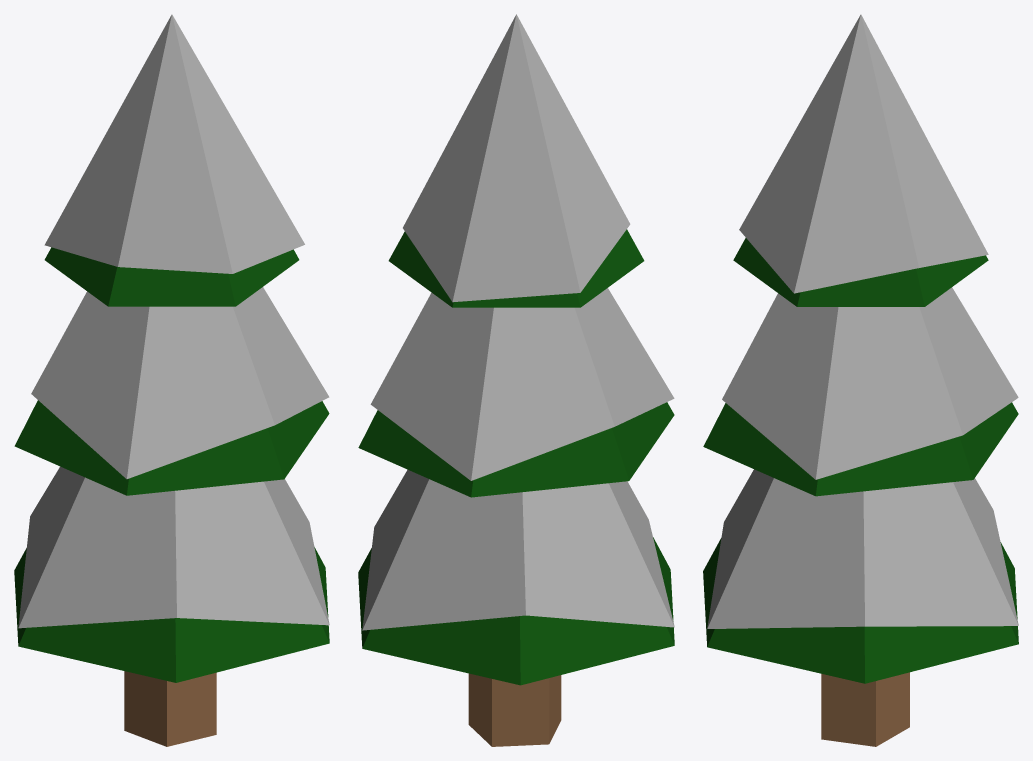
Rendered from ChristmasTree_1.fbx.
3 renders of one model, left to right at view 1: azimuth 30°, elevation 25°; view 2: azimuth 150°, elevation 25°; view 3: azimuth 270°, elevation 25°, orthographic.
Parts seen in each view (by area): view 1: Cone.002; view 2: Cone.002; view 3: Cone.002.
Boxes of the visible parts, x1,y1,x2,y2 form: Cone.002: (14, 14, 329, 746); Cone.002: (358, 14, 674, 746); Cone.002: (703, 14, 1018, 746).
Size of the model in its own units: 141 by 307 by 123.
